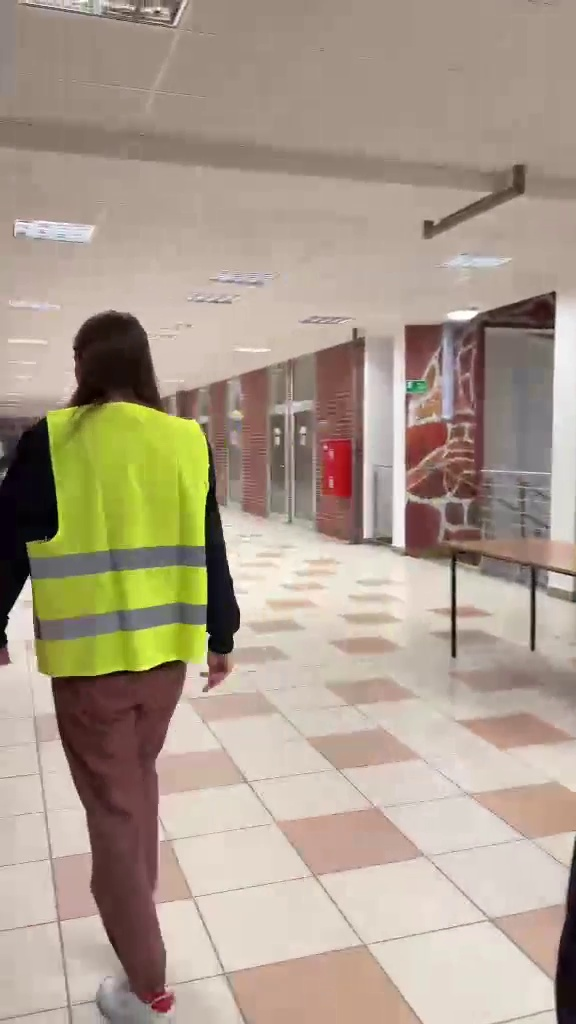vest: (6, 306, 272, 1003)
